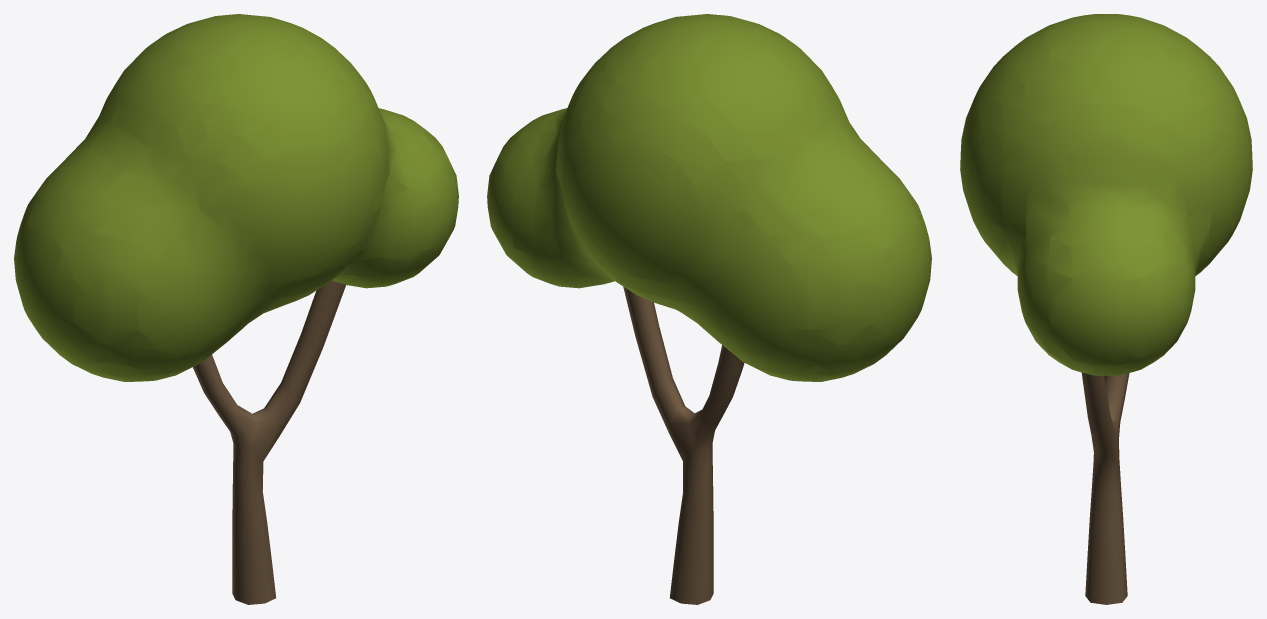
File: map.glb
3 views of the same model, side by side, from view 1: azimuth 30°, elevation 25°; view 2: azimuth 150°, elevation 25°; view 3: azimuth 270°, elevation 25° (orthographic).
Visible parts, largest first — view 1: Tree_3; view 2: Tree_3; view 3: Tree_3.
Boxes of the visible parts, box(x1,y1,x2,y2) form: Tree_3: box(14, 14, 458, 604); Tree_3: box(487, 14, 931, 604); Tree_3: box(960, 14, 1252, 604).
Size of what is drawn, in the model's own units: 4.27 by 5.59 by 2.64.
